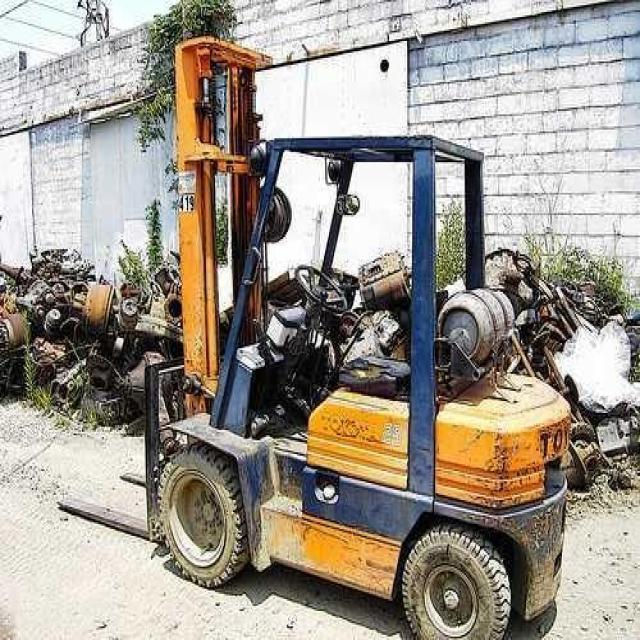forklift: (142, 39, 571, 640)
